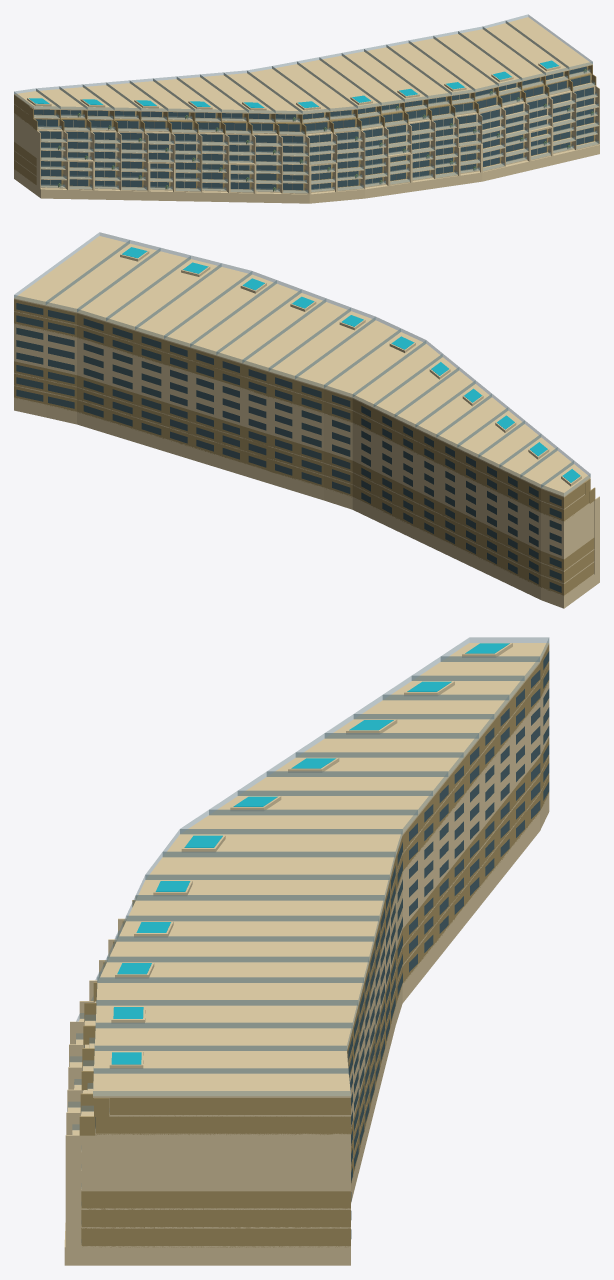
Rendered from southridge.glb.
The picture shows the model from 3 angles, top to bottom: view 1: azimuth 30°, elevation 25°; view 2: azimuth 150°, elevation 25°; view 3: azimuth 270°, elevation 25°; orthographic projection. The views are drawn at different scales.
Visible parts, largest first — view 1: Southridge Abschnitt 1, Southridge Abschnitt 4, Southridge Abschnitt 3, Southridge Abschnitt 2; view 2: Southridge Abschnitt 1, Southridge Abschnitt 4, Southridge Abschnitt 3, Southridge Abschnitt 2; view 3: Southridge Abschnitt 4, Southridge Abschnitt 1, Southridge Abschnitt 3, Southridge Abschnitt 2.
Boxes of the visible parts, box(x1,y1,x2,y2) form: Southridge Abschnitt 1: box(14, 70, 309, 203); Southridge Abschnitt 4: box(408, 14, 599, 181); Southridge Abschnitt 3: box(297, 40, 482, 198); Southridge Abschnitt 2: box(247, 61, 365, 203); Southridge Abschnitt 1: box(352, 340, 599, 608); Southridge Abschnitt 4: box(14, 232, 252, 451); Southridge Abschnitt 3: box(164, 271, 375, 491); Southridge Abschnitt 2: box(295, 317, 425, 509); Southridge Abschnitt 4: box(64, 977, 364, 1265); Southridge Abschnitt 1: box(180, 637, 549, 1002); Southridge Abschnitt 3: box(70, 874, 389, 1151); Southridge Abschnitt 2: box(118, 829, 402, 1048).
Size of the model in its own units: 159 by 28.54 by 71.79.
